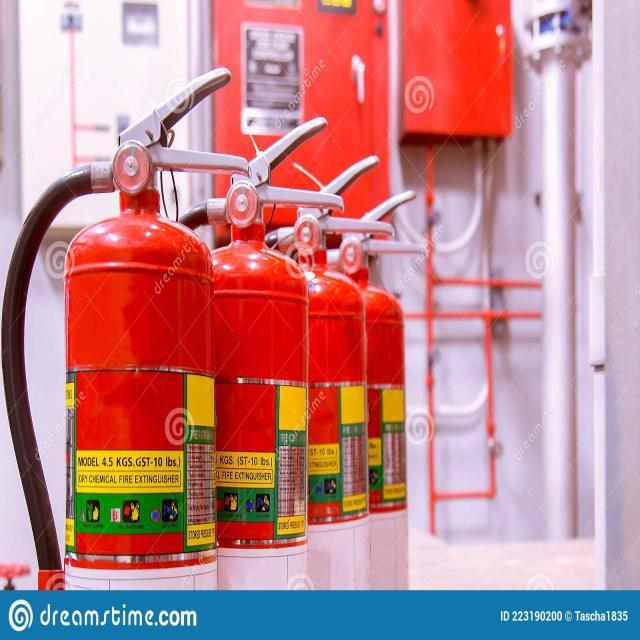fire_extinguisher: (0, 64, 262, 588), (142, 115, 348, 592), (232, 152, 396, 593), (286, 186, 428, 593)
